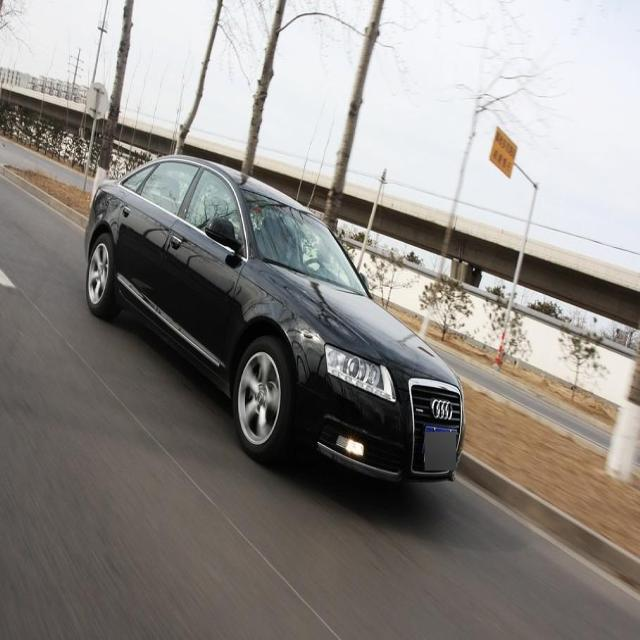door: (114, 169, 204, 306)
front_bumper: (294, 364, 468, 486)
front_glass: (241, 186, 371, 301)
front_right_side_door: (150, 163, 252, 379)
front_right_side_light: (322, 340, 397, 404)
front_right_side_mirror: (205, 215, 241, 251)
wheel: (232, 335, 290, 458), (85, 230, 122, 322)
